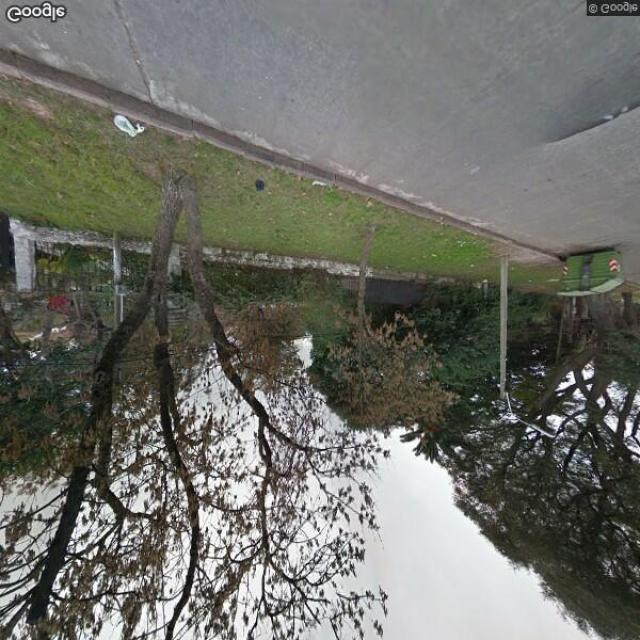garbage container: (549, 240, 640, 306)
